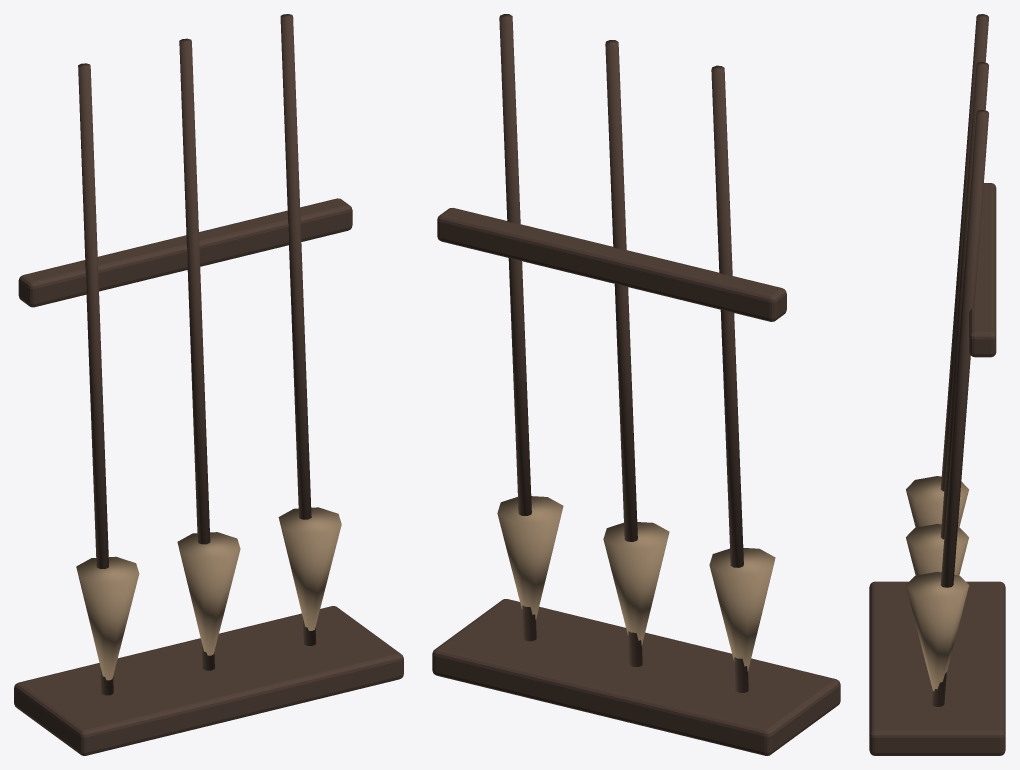
The model's file is rack_broom_rack.glb.
The picture shows the model from 3 angles, left to right: view 1: azimuth 30°, elevation 25°; view 2: azimuth 150°, elevation 25°; view 3: azimuth 270°, elevation 25°; orthographic projection. The views are drawn at different scales.
Visible parts, largest first — view 1: GD_rack_broom_rack__m0, GD_rack_broom_rack__m1; view 2: GD_rack_broom_rack__m0, GD_rack_broom_rack__m1; view 3: GD_rack_broom_rack__m0, GD_rack_broom_rack__m1.
Part boxes in pixels (box(x1,y1,x2,y2)): GD_rack_broom_rack__m0: box(14, 14, 403, 755); GD_rack_broom_rack__m1: box(76, 507, 341, 680); GD_rack_broom_rack__m0: box(432, 14, 840, 755); GD_rack_broom_rack__m1: box(497, 496, 775, 671); GD_rack_broom_rack__m0: box(869, 14, 1005, 755); GD_rack_broom_rack__m1: box(905, 476, 969, 691).
Bounding box in the file's own units: 0.8 × 1.5 × 0.3.
